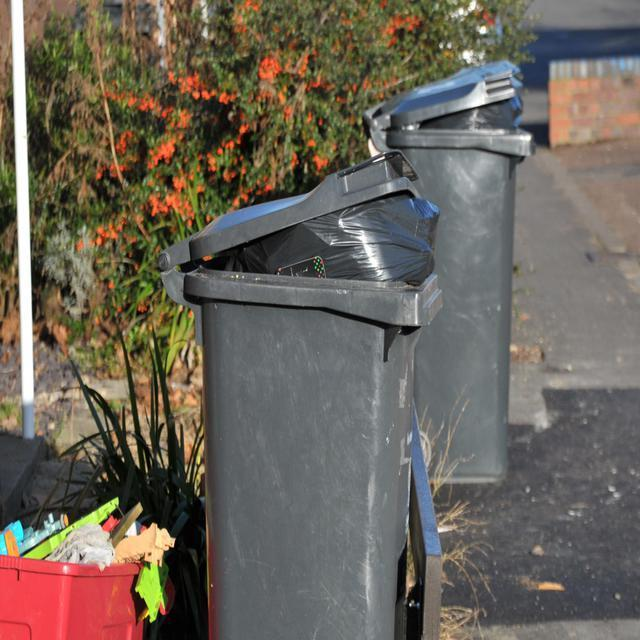garbage: (0, 489, 181, 640), (259, 193, 446, 289), (419, 98, 532, 139)
